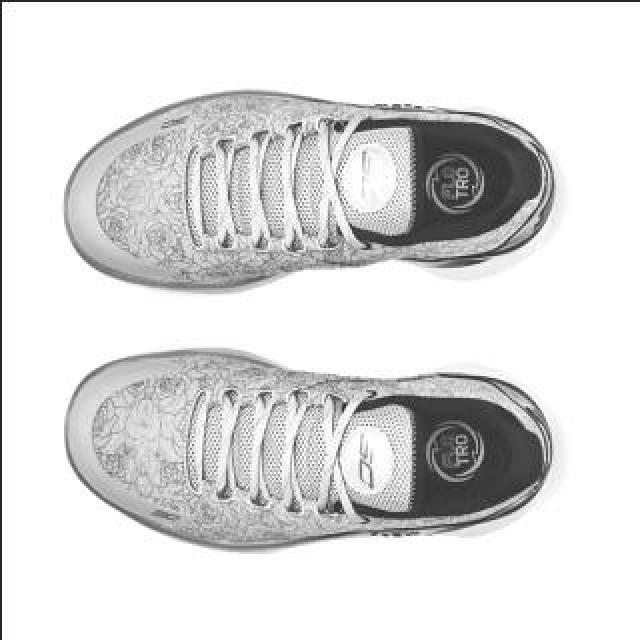shoe: (59, 334, 563, 562), (61, 82, 565, 298)
